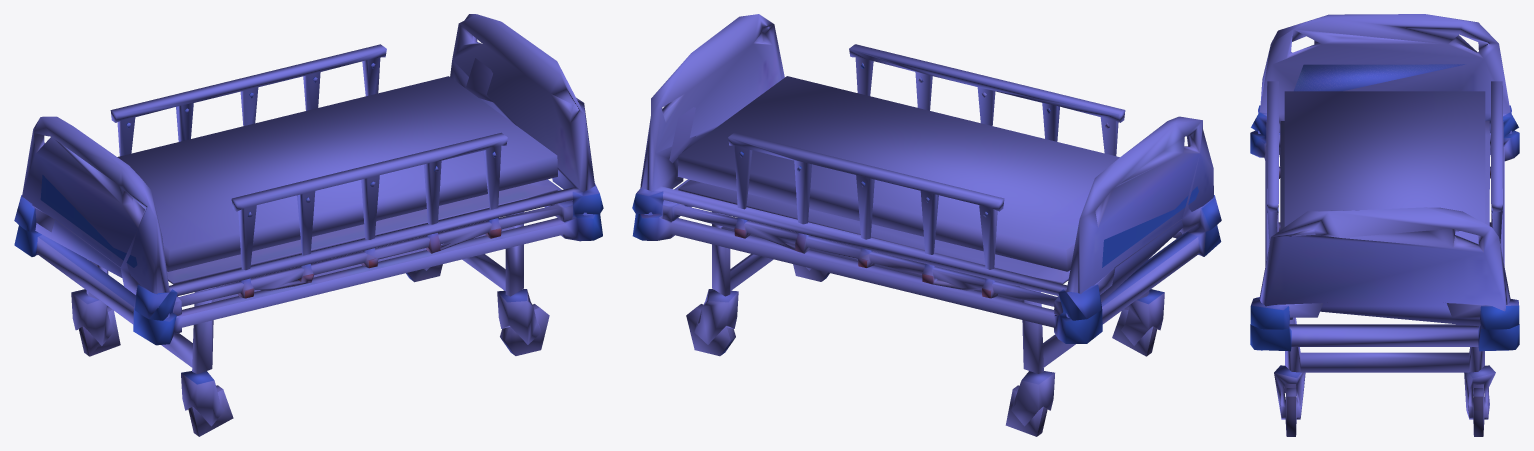
The model's file is model.progressive.glb.
3 renders of one model, left to right at view 1: azimuth 30°, elevation 25°; view 2: azimuth 150°, elevation 25°; view 3: azimuth 270°, elevation 25°, orthographic. The views are drawn at different scales.
Parts seen in each view (by area): view 1: material; view 2: material; view 3: material.
Part boxes in pixels (<box>): material: <box>14,14,603,436</box>; material: <box>632,14,1221,436</box>; material: <box>1250,14,1519,436</box>.
Bounding box in the file's own units: 1.9 × 1.05 × 1.04.
1 material, 1 textured.
